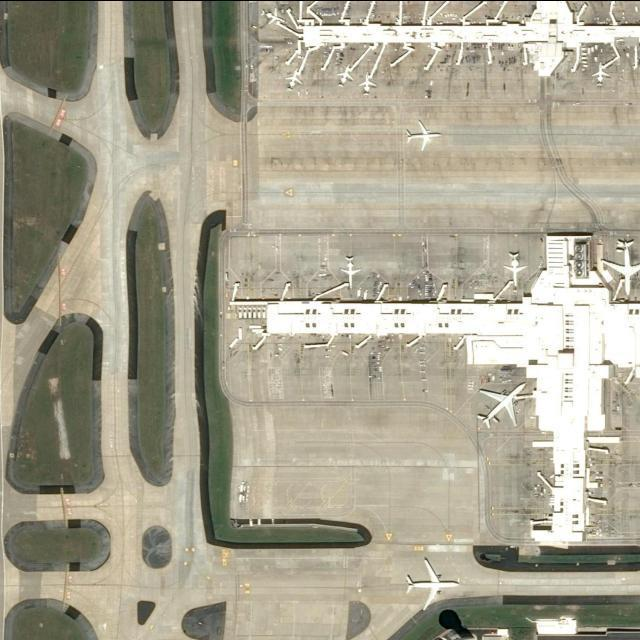Aircraft: (401, 555, 459, 610), (476, 379, 526, 429), (600, 235, 640, 297), (403, 117, 443, 151), (500, 249, 528, 287), (338, 253, 362, 289), (332, 61, 354, 87), (356, 71, 378, 95), (284, 68, 304, 92), (592, 61, 610, 83)
